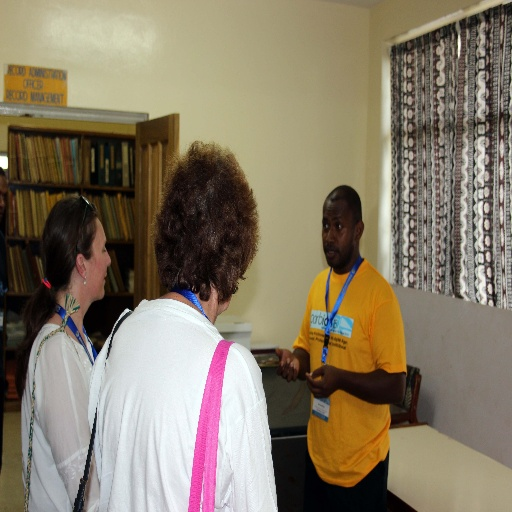hand: (304, 362, 337, 400), (274, 347, 299, 387)
